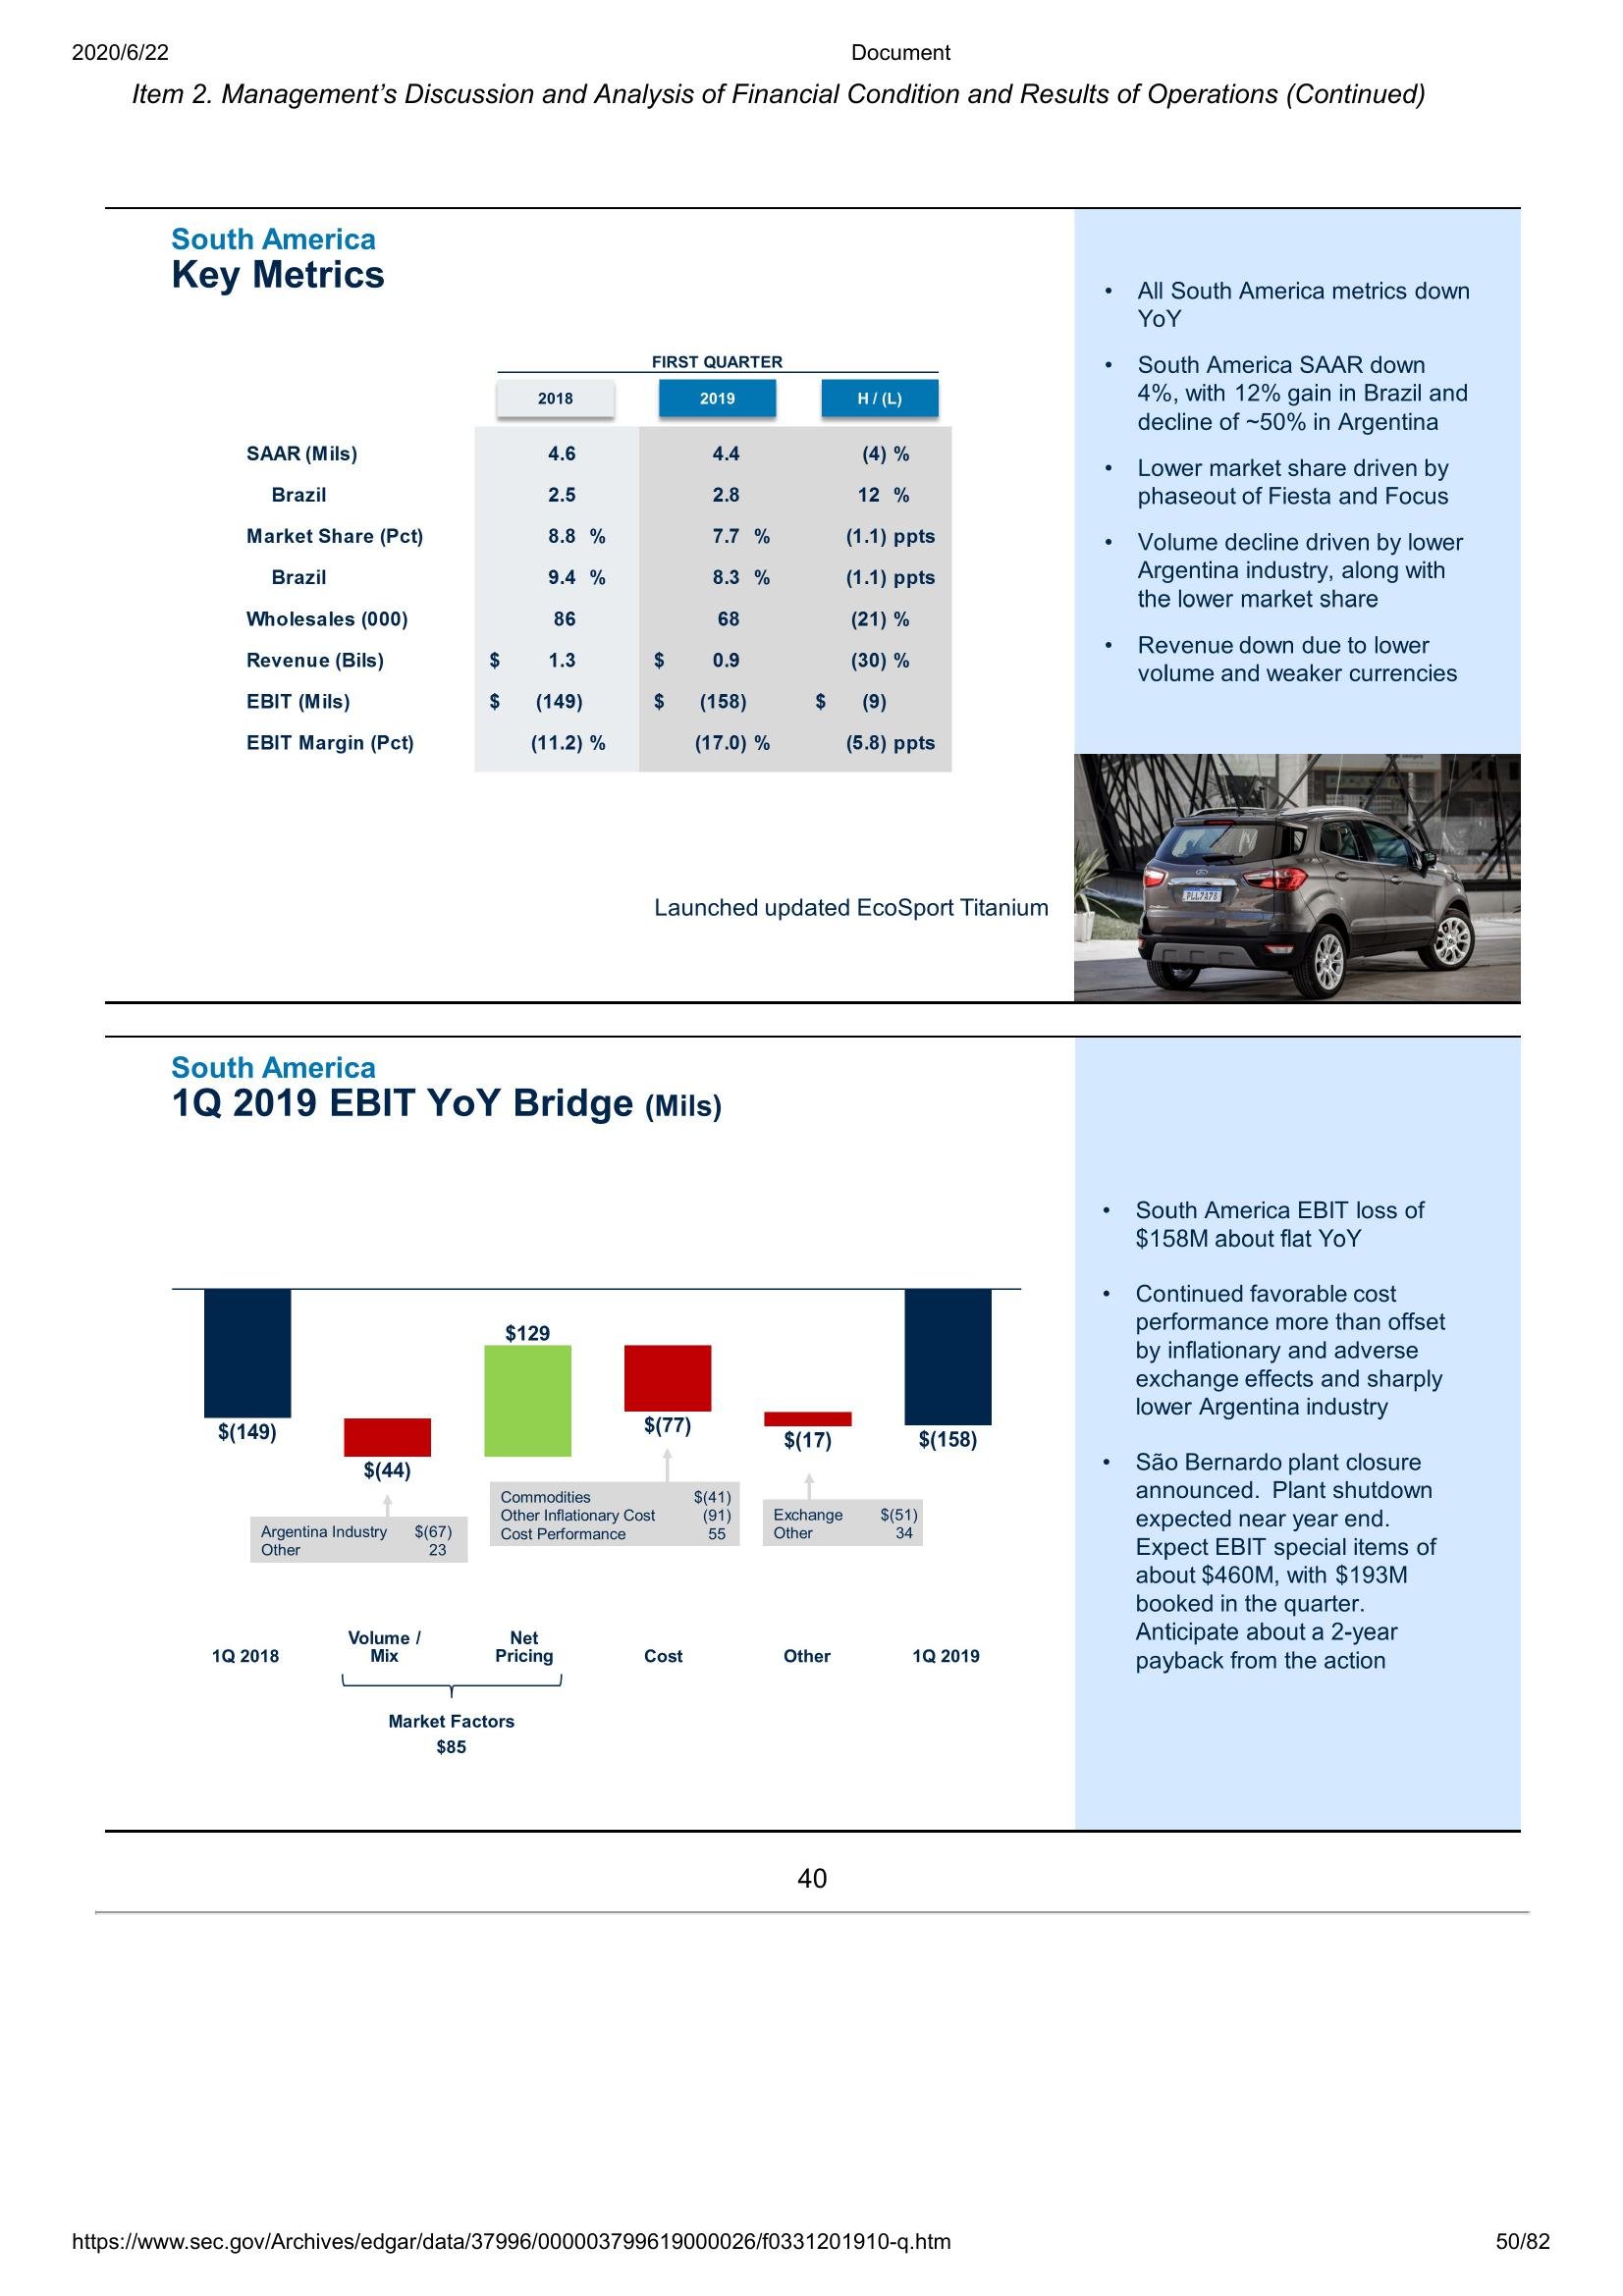table: (232, 346, 950, 776)
